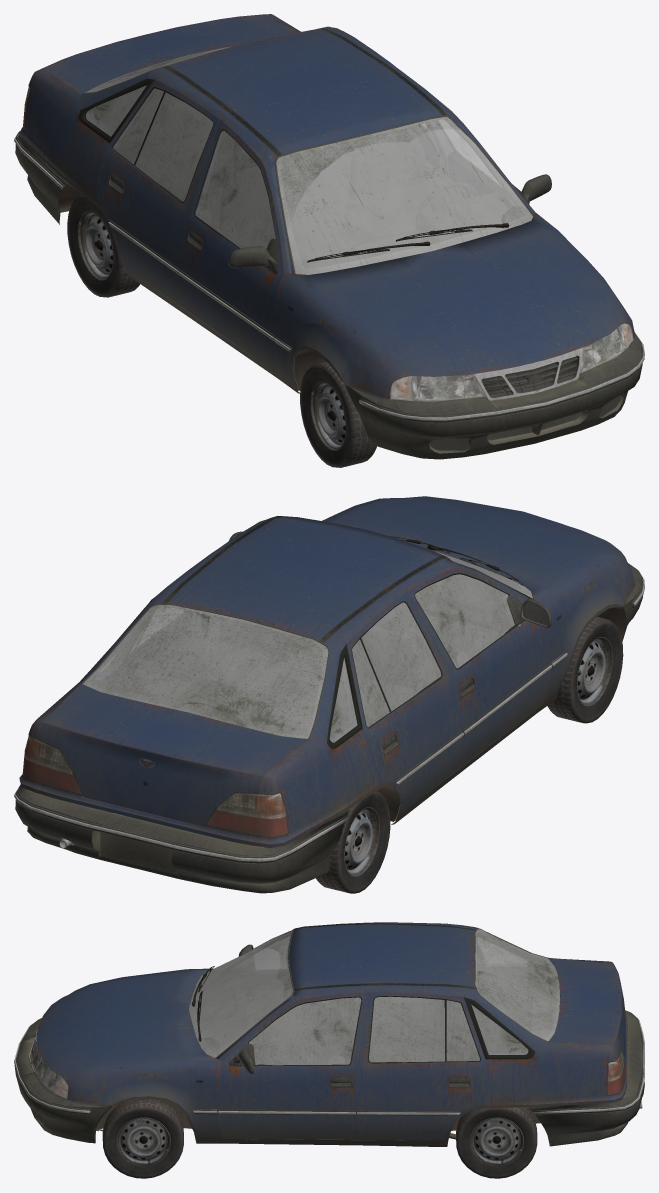
The model's file is nexia.glb.
3 renders of one model, top to bottom at view 1: azimuth 30°, elevation 25°; view 2: azimuth 150°, elevation 25°; view 3: azimuth 270°, elevation 25°, orthographic. The views are drawn at different scales.
Parts seen in each view (by area): view 1: Plane.002_Low, Plane.054, Tire_Low.002, Tire_Low.004, Plane.001; view 2: Plane.002_Low, Plane.054, Tire_Low.002, Tire_Low.004; view 3: Plane.002_Low, Plane.054, Tire_Low.003, Tire_Low.001, Plane.001.
Boxes of the visible parts, x1,y1,x2,y2 form: Plane.002_Low: (14, 14, 644, 459); Plane.054: (85, 46, 532, 274); Tire_Low.002: (300, 361, 376, 467); Tire_Low.004: (67, 194, 140, 297); Plane.001: (390, 324, 633, 401); Plane.002_Low: (14, 496, 644, 893); Plane.054: (83, 551, 532, 742); Tire_Low.002: (547, 617, 623, 723); Tire_Low.004: (316, 790, 390, 893); Plane.002_Low: (14, 922, 644, 1146); Plane.054: (189, 929, 559, 1057); Tire_Low.003: (102, 1099, 183, 1178); Tire_Low.001: (456, 1107, 537, 1178); Plane.001: (35, 1059, 68, 1098).
Size of the model in its own units: 1.85 by 1.3 by 4.14.
Materials: 3 (3 with a texture image).
